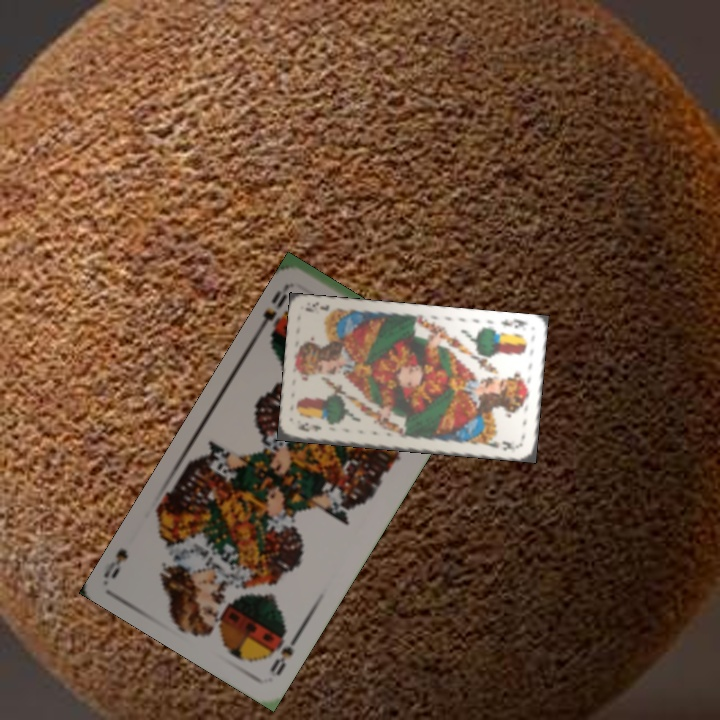EK: (497, 315, 530, 331), (294, 418, 324, 434)
SO: (254, 280, 295, 340), (266, 627, 303, 679)
